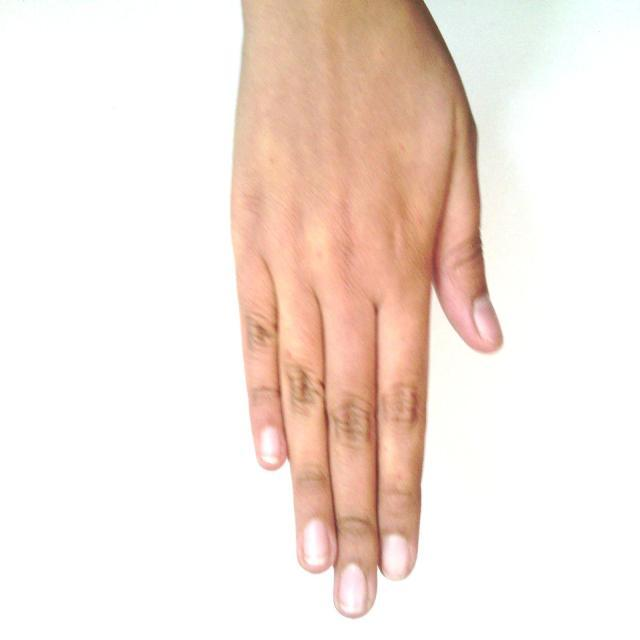Fingernail: (338, 565, 366, 614), (475, 296, 502, 343), (303, 519, 329, 567), (383, 535, 409, 579), (260, 427, 282, 461)
